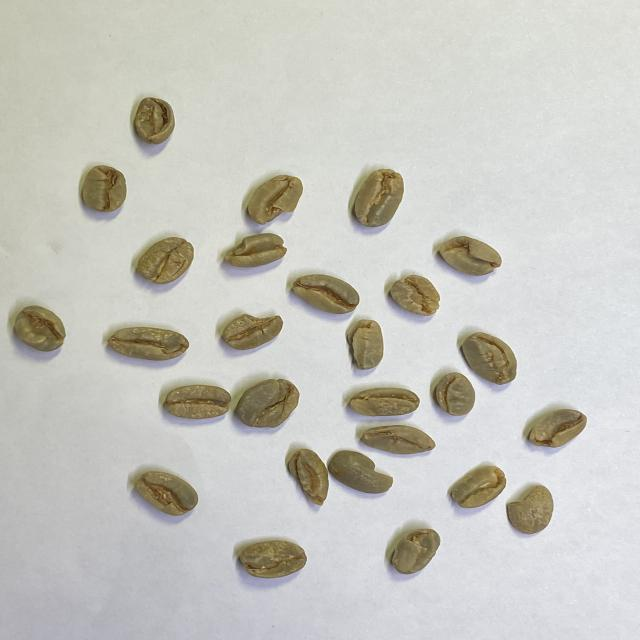bad: (233, 374, 303, 432), (349, 164, 408, 232), (245, 171, 308, 229), (325, 447, 396, 498), (134, 468, 201, 520), (106, 325, 190, 366), (460, 330, 520, 387), (233, 538, 310, 581), (289, 273, 362, 317), (74, 162, 134, 215), (10, 302, 70, 355), (435, 233, 504, 279), (284, 446, 334, 508), (126, 93, 180, 148), (503, 481, 556, 537), (218, 310, 286, 353), (358, 422, 439, 458), (447, 463, 507, 511), (524, 406, 589, 450), (220, 231, 289, 272), (346, 384, 422, 421), (343, 315, 389, 375), (386, 274, 445, 320), (389, 527, 443, 577), (432, 371, 478, 419)
good: (134, 234, 198, 287), (162, 381, 233, 424)
